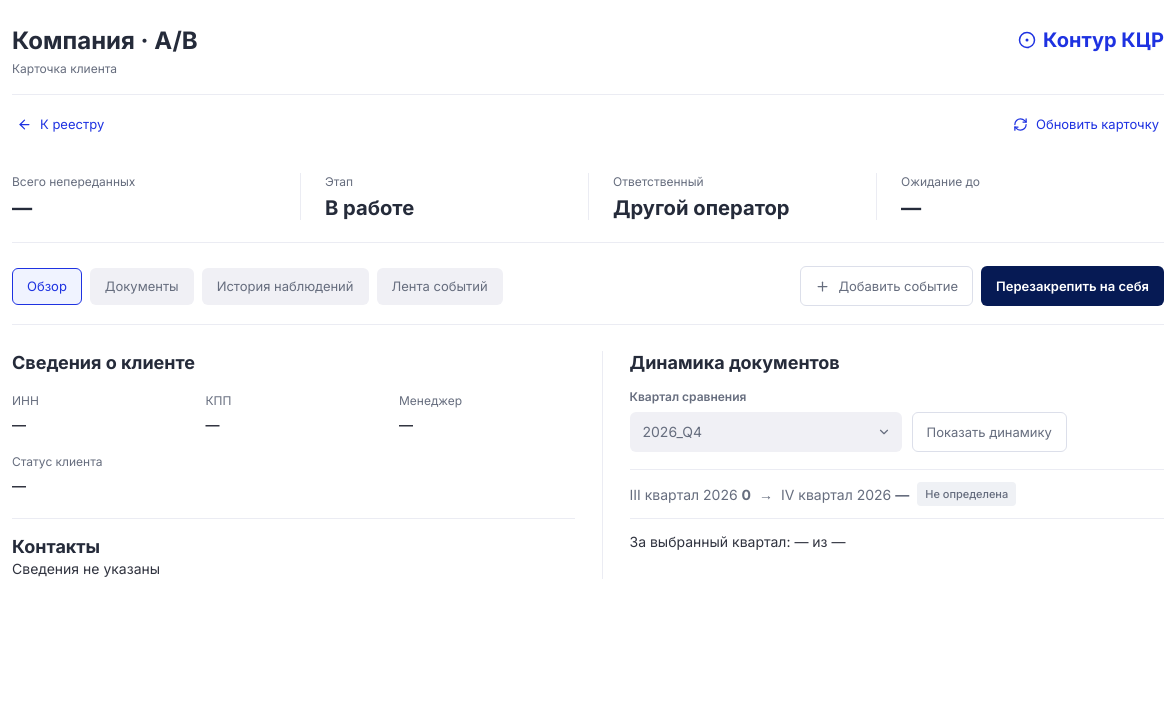
it: shows the Client History event date, author and details in API order
This screenshot has width=1176, height=709.
Press the mouse on the tab "Лента событий" at (440, 286), box [376, 268, 503, 305]
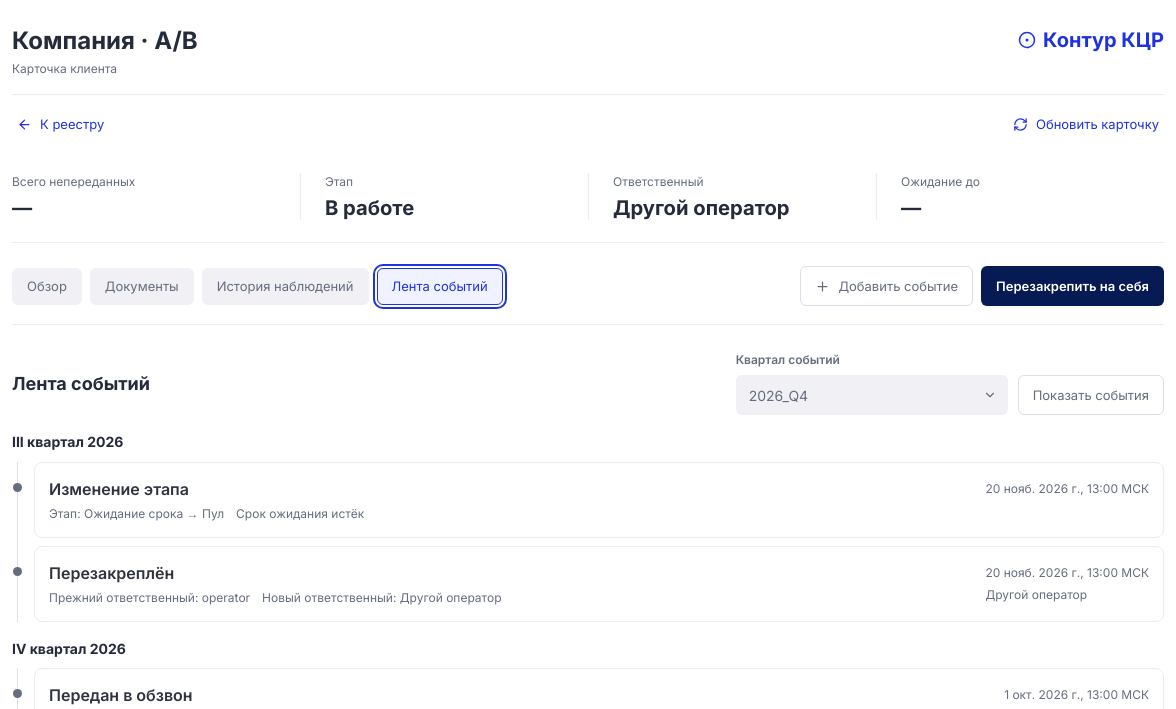
Now the number of list items is 4
Now the list item that starts with "Изменение этапа" shows "Этап: Ожидание срока → Пул", box [34, 462, 1164, 538]
Now the list item that starts with "Передан в обзвон" is shown, box [49, 685, 193, 705]
